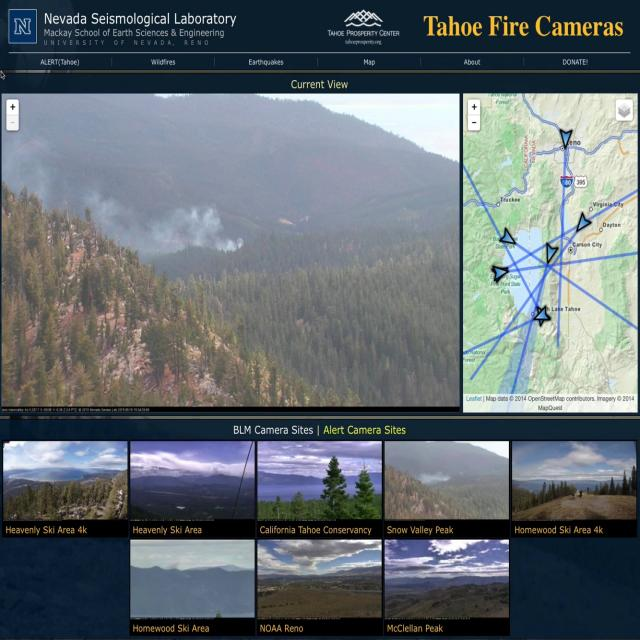smoke: (5, 142, 248, 255)
